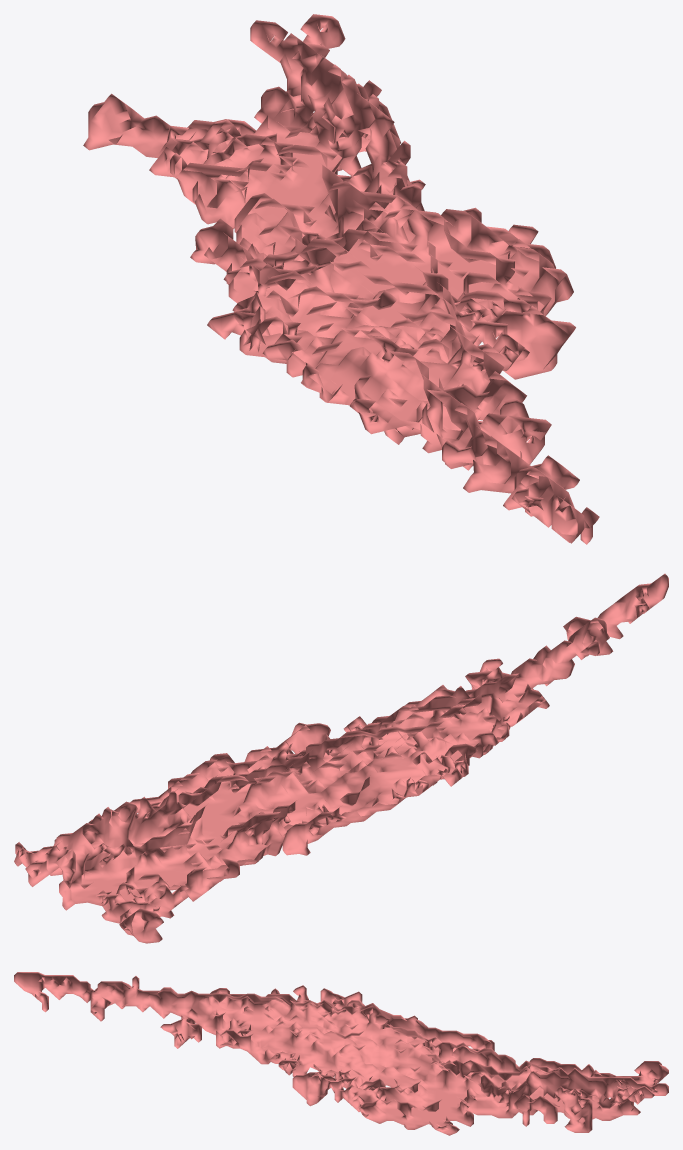
File: osteocyte_1.glb
3 renders of one model, top to bottom at view 1: azimuth 30°, elevation 25°; view 2: azimuth 150°, elevation 25°; view 3: azimuth 270°, elevation 25°, orthographic. The views are drawn at different scales.
Visible parts, largest first — view 1: osteocyte_1; view 2: osteocyte_1; view 3: osteocyte_1.
Part boxes in pixels (left/top/right/bottom): osteocyte_1: left=83, top=14, right=599, bottom=544; osteocyte_1: left=14, top=573, right=668, bottom=943; osteocyte_1: left=14, top=972, right=668, bottom=1135.
Bounding box in the file's own units: 16.85 × 5.3 × 45.26.
